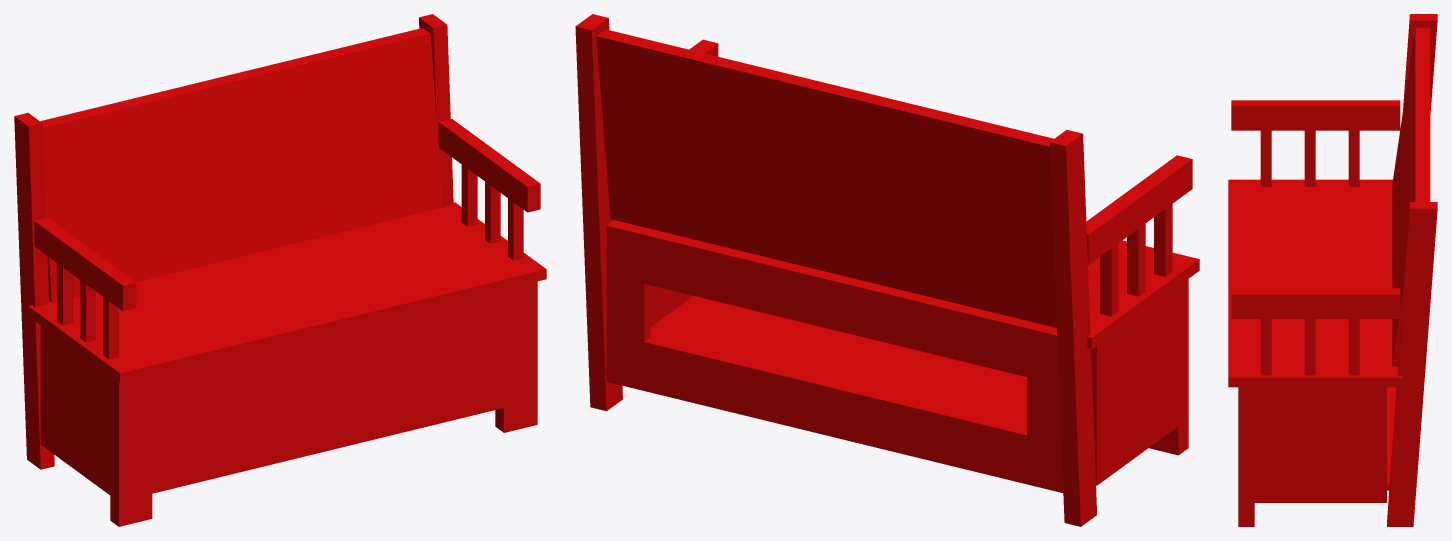
File: BenchCollider.fbx
3 renders of one model, left to right at view 1: azimuth 30°, elevation 25°; view 2: azimuth 150°, elevation 25°; view 3: azimuth 270°, elevation 25°, orthographic. The views are drawn at different scales.
Parts seen in each view (by area): view 1: BenchCollision; view 2: BenchCollision; view 3: BenchCollision.
Boxes of the visible parts, x1=… form: BenchCollision: x1=14, y1=14, x2=546, y2=526; BenchCollision: x1=575, y1=14, x2=1199, y2=526; BenchCollision: x1=1228, y1=14, x2=1437, y2=526.
Size of the model in its own units: 140 by 105 by 62.5.
